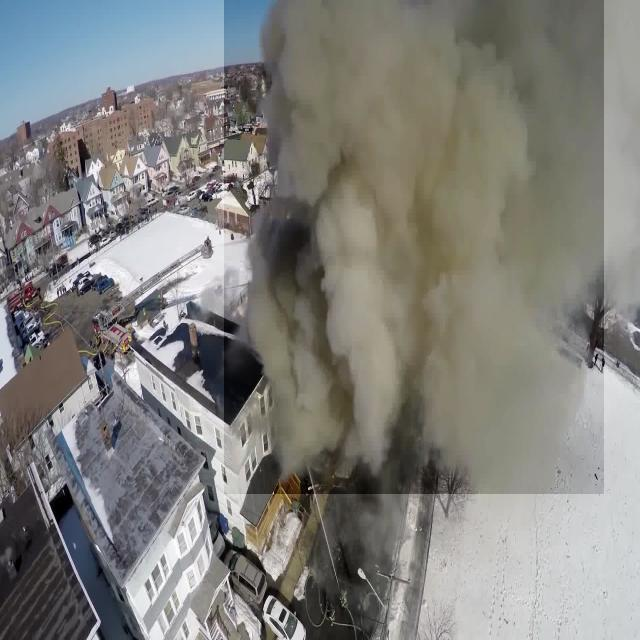Smoke: (224, 0, 604, 494)
